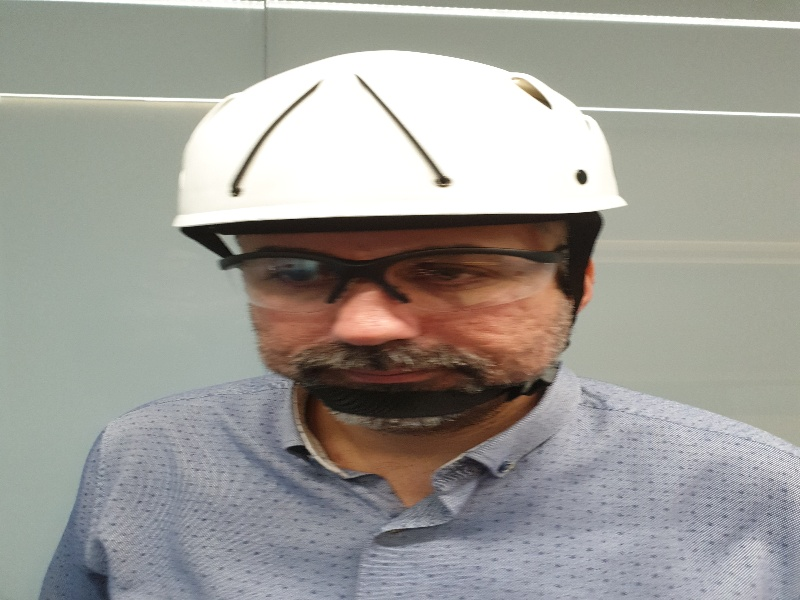Baret: (179, 49, 625, 216)
Gozluk: (216, 247, 572, 310)
